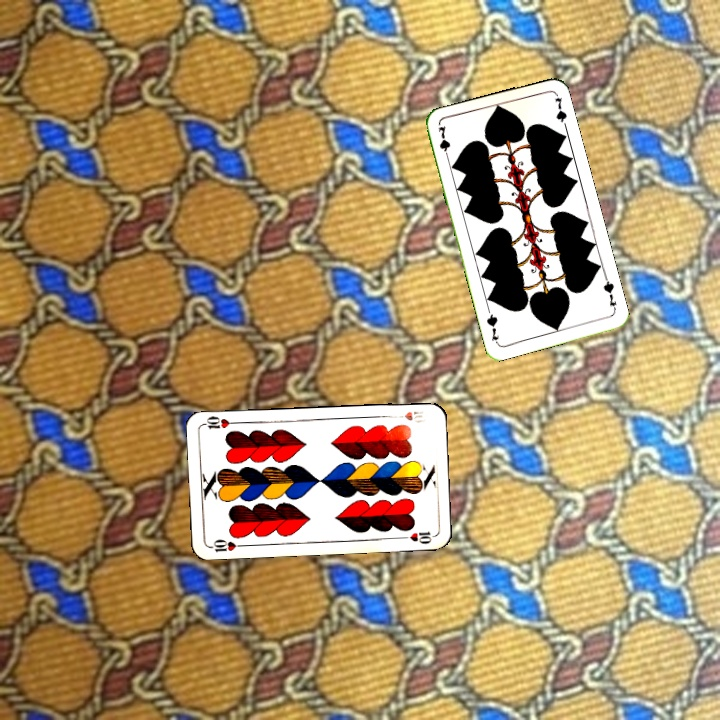G7: (599, 273, 619, 313), (434, 122, 453, 163)
H10: (206, 535, 247, 555), (389, 407, 428, 425)
